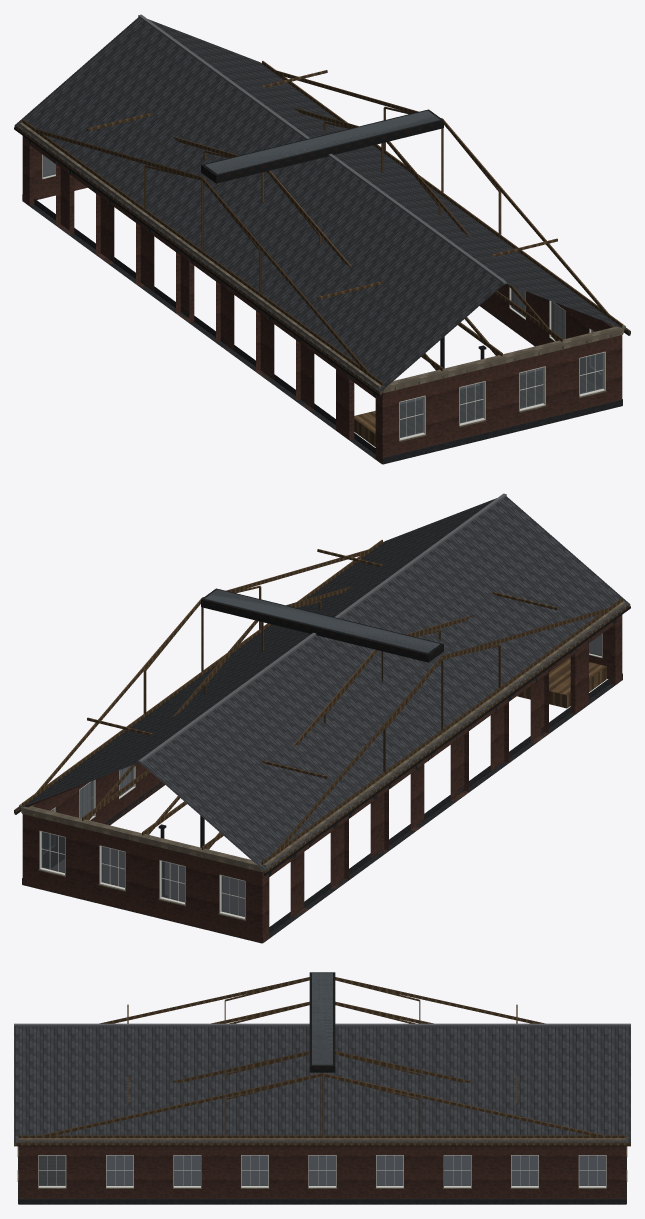
The model's file is A_goods_shed.glb.
3 renders of one model, top to bottom at view 1: azimuth 30°, elevation 25°; view 2: azimuth 150°, elevation 25°; view 3: azimuth 270°, elevation 25°, orthographic. The views are drawn at different scales.
Parts seen in each view (by area): view 1: A_goods_shed; view 2: A_goods_shed; view 3: A_goods_shed.
Part boxes in pixels (x1,y1,x2,y2): A_goods_shed: (14, 14, 630, 464); A_goods_shed: (14, 493, 630, 943); A_goods_shed: (14, 972, 630, 1204).
Size of the model in its own units: 20.99 by 12.85 by 52.8.
12 materials, 8 textured.
